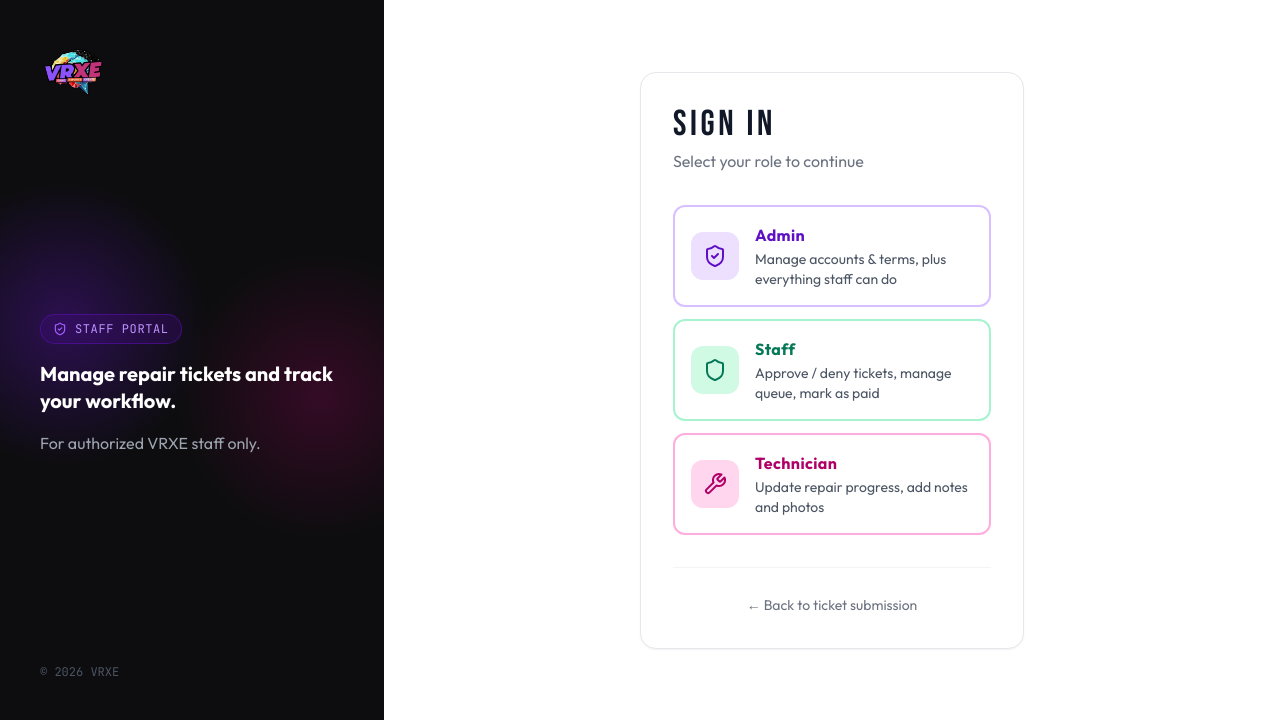
Test: LoginPage — step 2 (password) › shows error when form is submitted without a password
Click the text "Admin" at (780, 234), box [755,224,805,244]
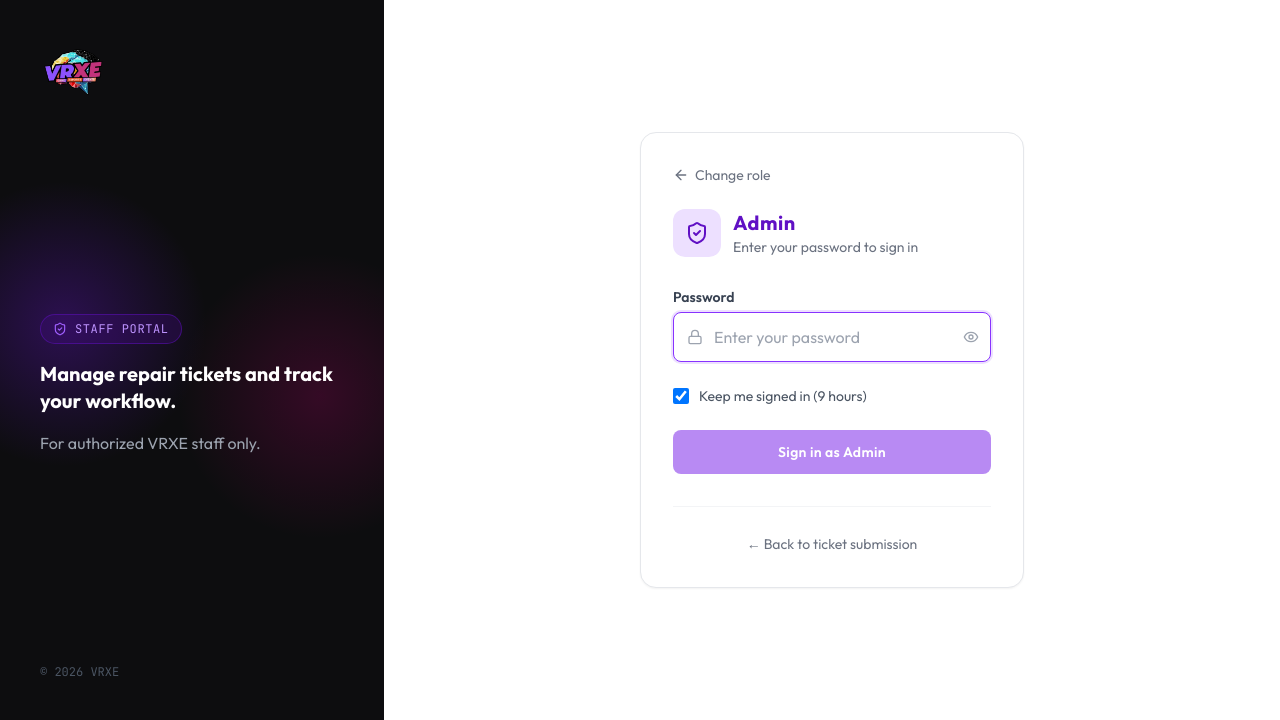
Submit the form, box [673,289,991,474]
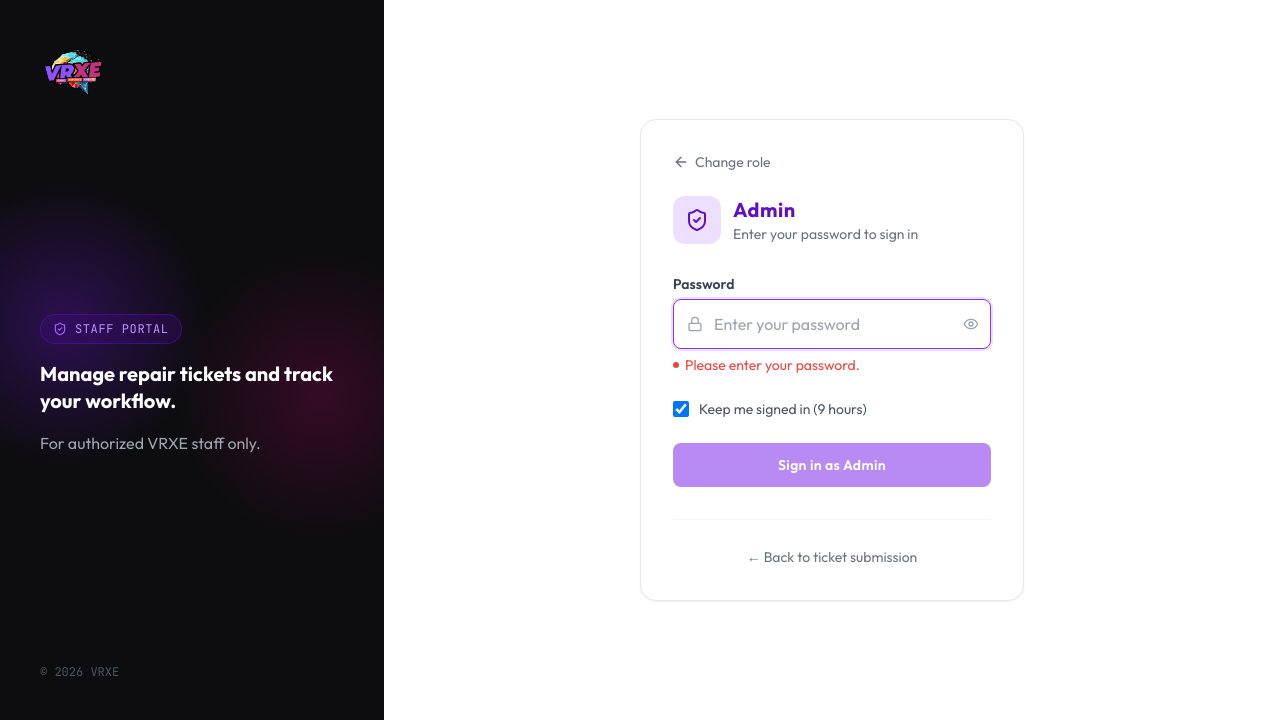
Result: the text "Please enter your password." is shown at [673,356,860,374]
